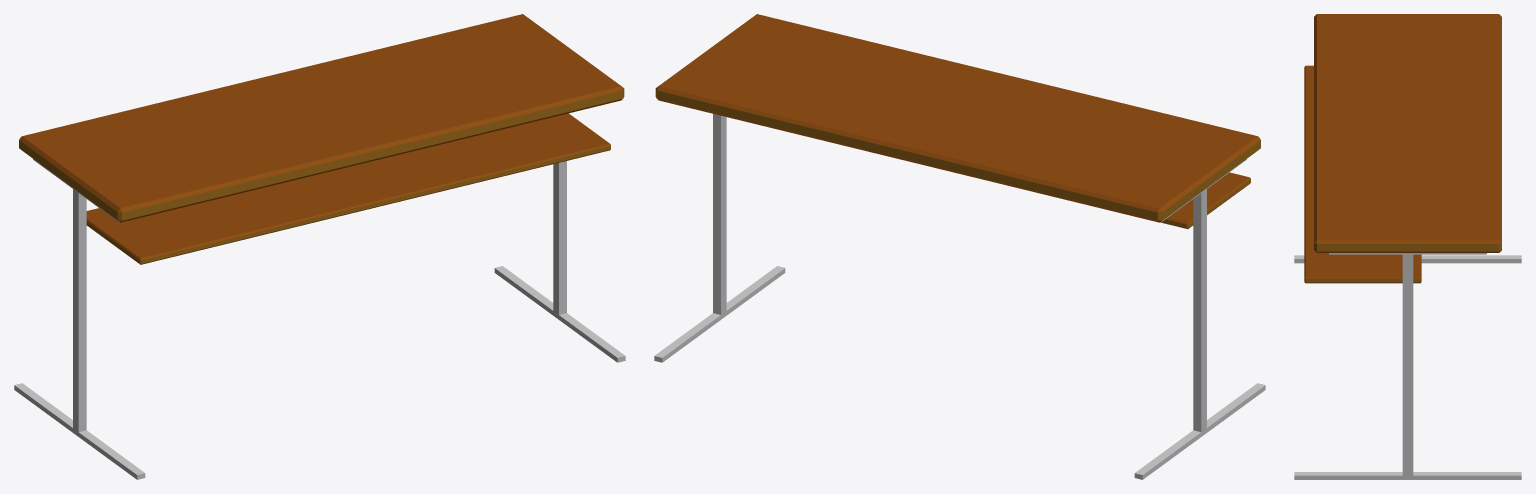
The model's file is Desk_Shatter.fbx.
The picture shows the model from 3 angles, left to right: view 1: azimuth 30°, elevation 25°; view 2: azimuth 150°, elevation 25°; view 3: azimuth 270°, elevation 25°; orthographic projection. The views are drawn at different scales.
Visible parts, largest first — view 1: Desk_ShatterVersion_1_fracturepart1, Desk_ShatterVersion_1_fracturepart20, Desk_ShatterVersion_1_fracturepart8, Desk_ShatterVersion_1_fracturepart11, Desk_ShatterVersion, Desk_ShatterVersion_1_fracturepart4, Desk_ShatterVersion_1_fracturepart4_2, Desk_ShatterVersion_1_fracturepart6_2, Desk_ShatterVersion_1_fracturepart2, Desk_ShatterVersion_3, Desk_ShatterVersion_1_fracturepart1_2, Desk_ShatterVersion_1_fracturepart15_2 (+17 smaller); view 2: Desk_ShatterVersion_1_fracturepart1, Desk_ShatterVersion_1_fracturepart11, Desk_ShatterVersion_1_fracturepart2, Desk_ShatterVersion_1_fracturepart8, Desk_ShatterVersion_1_fracturepart20, Desk_ShatterVersion, Desk_ShatterVersion_3, Desk_ShatterVersion_1_fracturepart5, Desk_ShatterVersion_1_fracturepart4, Desk_ShatterVersion_1_fracturepart19, Desk_ShatterVersion_1_fracturepart7, Desk_ShatterVersion_1_fracturepart3 (+7 smaller); view 3: Desk_ShatterVersion_1_fracturepart11, Desk_ShatterVersion_1_fracturepart1, Desk_ShatterVersion_3, Desk_ShatterVersion_1_fracturepart20, Desk_ShatterVersion_1_fracturepart8, Desk_ShatterVersion_1_fracturepart10, Desk_ShatterVersion_1_fracturepart2, Desk_ShatterVersion_1_fracturepart4, Desk_ShatterVersion_1_fracturepart7, Desk_ShatterVersion_1_fracturepart19, Desk_ShatterVersion_1_fracturepart5, Desk_ShatterVersion_1_fracturepart15_2 (+12 smaller).
Boxes of the visible parts, x1,y1,x2,y2 form: Desk_ShatterVersion_1_fracturepart1: (19,130,181,222); Desk_ShatterVersion_1_fracturepart20: (364,79,516,143); Desk_ShatterVersion_1_fracturepart8: (133,105,242,207); Desk_ShatterVersion_1_fracturepart11: (413,14,537,83); Desk_ShatterVersion: (14,159,145,479); Desk_ShatterVersion_1_fracturepart4: (193,127,321,204); Desk_ShatterVersion_1_fracturepart4_2: (181,195,302,253); Desk_ShatterVersion_1_fracturepart6_2: (300,175,457,225); Desk_ShatterVersion_1_fracturepart2: (47,92,215,148); Desk_ShatterVersion_3: (494,161,625,362); Desk_ShatterVersion_1_fracturepart1_2: (86,208,186,264); Desk_ShatterVersion_1_fracturepart15_2: (496,123,610,176); Desk_ShatterVersion_1_fracturepart1: (1129,122,1260,222); Desk_ShatterVersion_1_fracturepart11: (655,59,828,120); Desk_ShatterVersion_1_fracturepart2: (977,153,1135,216); Desk_ShatterVersion_1_fracturepart8: (998,117,1198,161); Desk_ShatterVersion_1_fracturepart20: (811,39,948,104); Desk_ShatterVersion: (1134,159,1265,479); Desk_ShatterVersion_3: (654,114,785,362); Desk_ShatterVersion_1_fracturepart5: (896,124,998,178); Desk_ShatterVersion_1_fracturepart4: (1031,88,1177,131); Desk_ShatterVersion_1_fracturepart19: (902,62,1011,113); Desk_ShatterVersion_1_fracturepart7: (975,85,1058,147); Desk_ShatterVersion_1_fracturepart3: (736,100,850,142); Desk_ShatterVersion_1_fracturepart11: (1378,178,1501,252); Desk_ShatterVersion_1_fracturepart1: (1314,14,1501,45); Desk_ShatterVersion_3: (1294,253,1521,479); Desk_ShatterVersion_1_fracturepart20: (1314,149,1424,200); Desk_ShatterVersion_1_fracturepart8: (1314,40,1468,96); Desk_ShatterVersion_1_fracturepart10: (1350,198,1481,252); Desk_ShatterVersion_1_fracturepart2: (1425,25,1501,97); Desk_ShatterVersion_1_fracturepart4: (1314,50,1412,105); Desk_ShatterVersion_1_fracturepart7: (1314,93,1458,120); Desk_ShatterVersion_1_fracturepart19: (1320,120,1419,152); Desk_ShatterVersion_1_fracturepart5: (1453,94,1501,136); Desk_ShatterVersion_1_fracturepart15_2: (1304,229,1357,283).
Size of the model in its own units: 160 by 79.44 by 67.18.
Materials: 1 (1 with a texture image).
